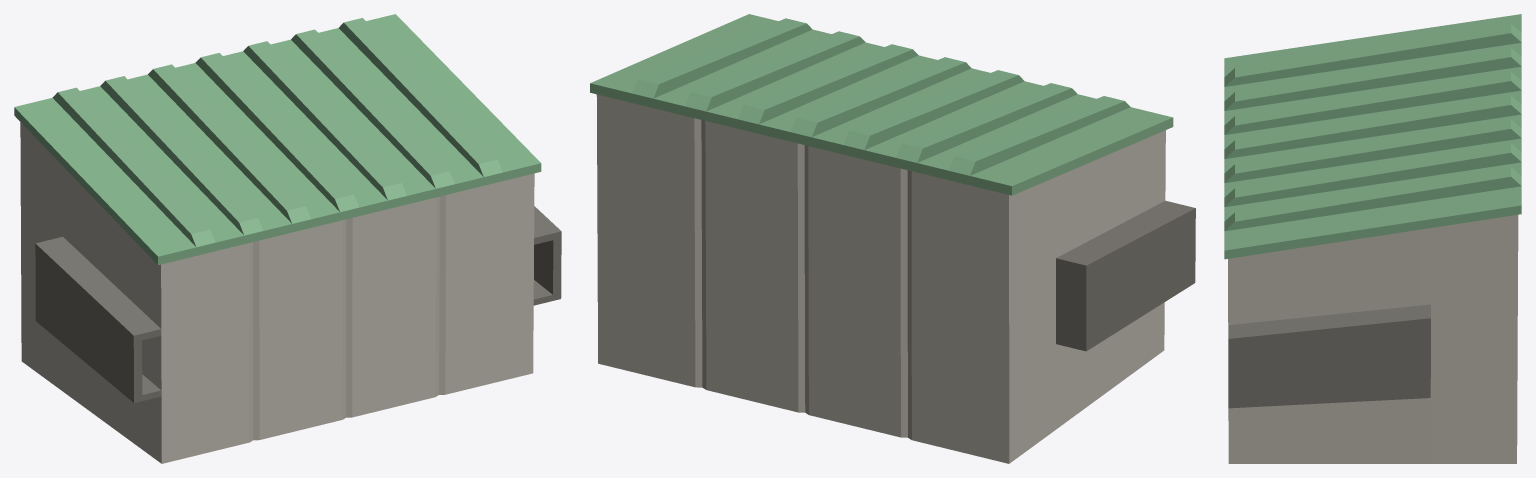
The model's file is dumpster.fbx.
The picture shows the model from 3 angles, left to right: view 1: azimuth 30°, elevation 25°; view 2: azimuth 150°, elevation 25°; view 3: azimuth 270°, elevation 25°; orthographic projection. The views are drawn at different scales.
Parts seen in each view (by area): view 1: Cube; view 2: Cube; view 3: Cube.
Boxes of the visible parts, box(x1,y1,x2,y2) form: Cube: box(14, 14, 561, 463); Cube: box(590, 14, 1195, 463); Cube: box(1224, 14, 1521, 463).
Bounding box in the file's own units: 256 × 151 × 150.
1 material, 1 textured.
